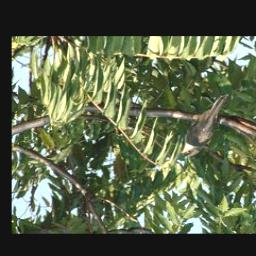Cuckoo: (178, 93, 233, 158)
